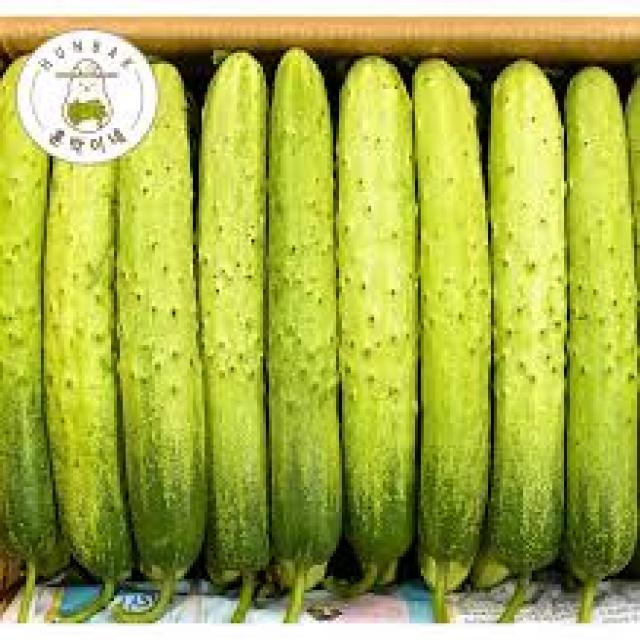Cucumber: (263, 44, 345, 604), (409, 33, 491, 593), (555, 58, 637, 618), (330, 39, 412, 598), (488, 39, 570, 598), (190, 39, 272, 598)
